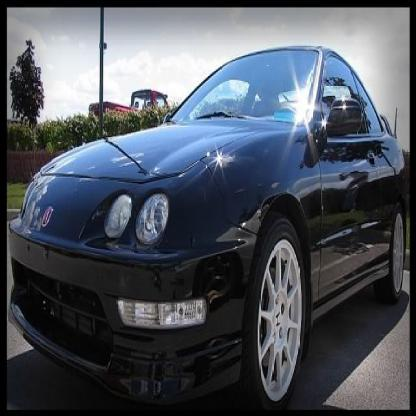Vehicle: (6, 42, 408, 401)
